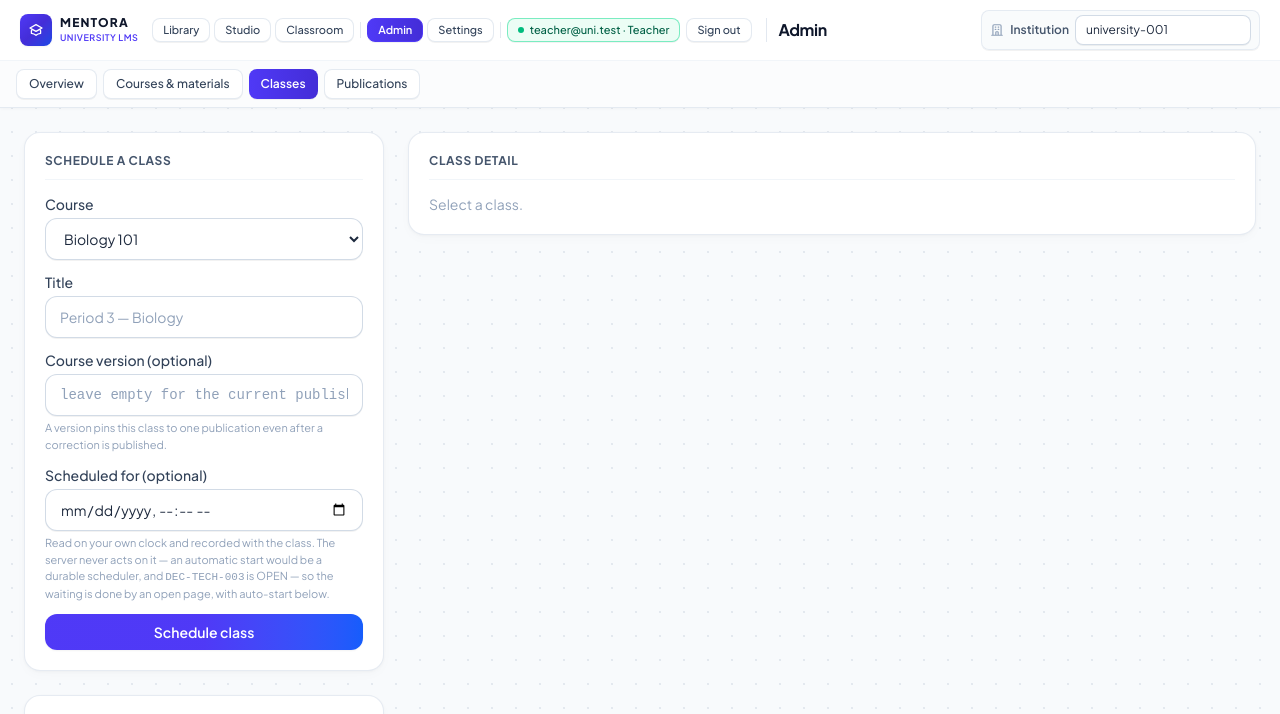
it: AdminPage — classes › records the datetime it was given, read on the teacher’s own clock
The image size is (1280, 714).
In the field labelled "Title": (204, 317) [45,296,363,338], type "Period 4"
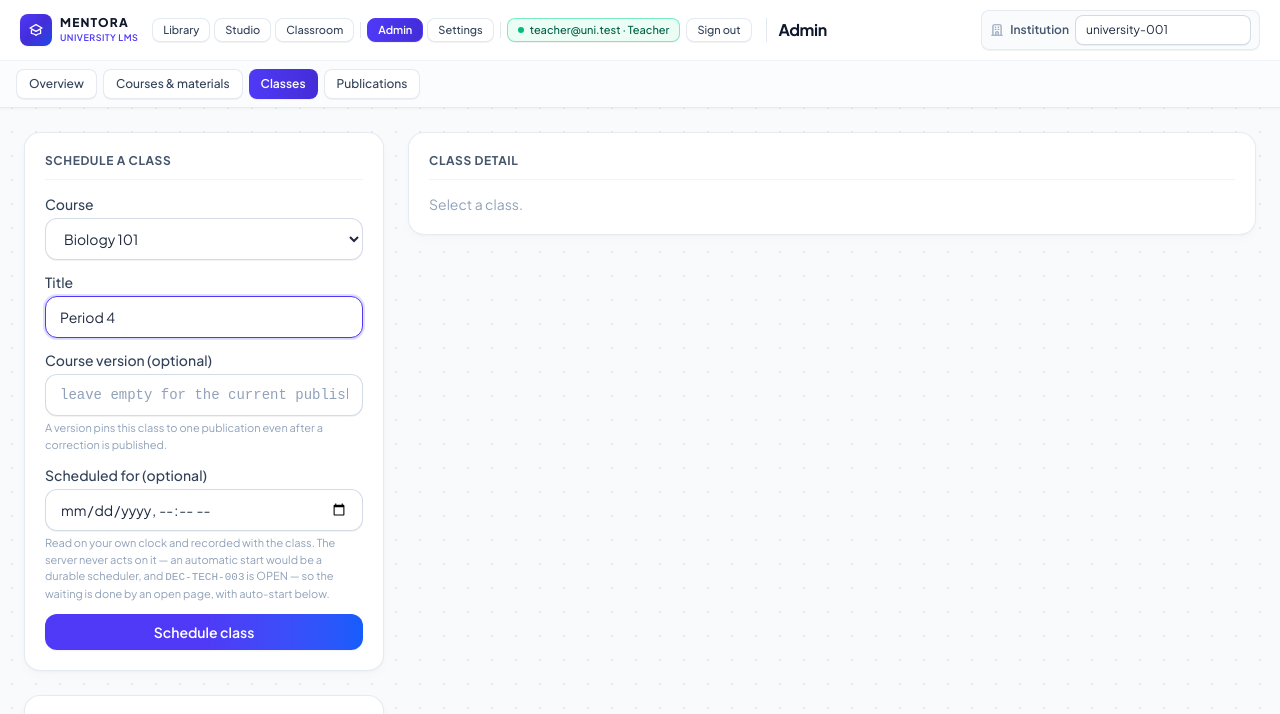
In the field labelled "Scheduled for (optional)": (204, 510) [45,489,363,531], type "2026-10-20T09:30"
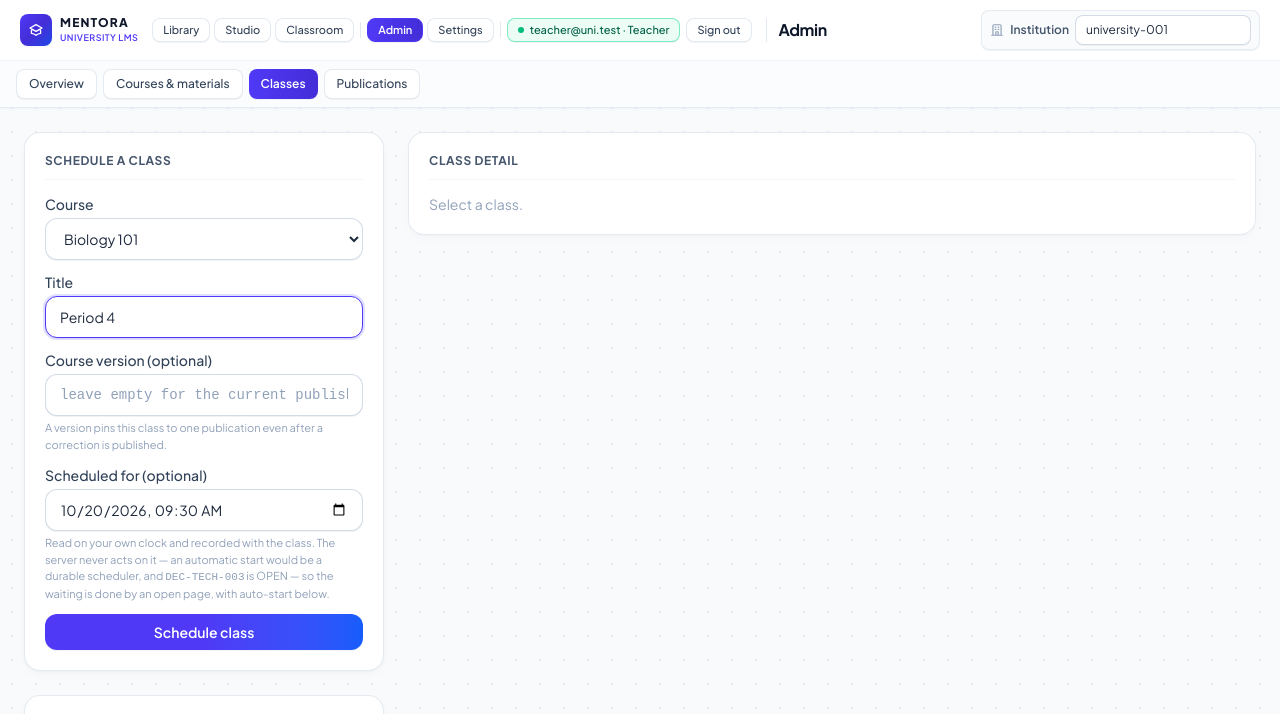
Click the button "Schedule class": (204, 632) [45,614,363,650]
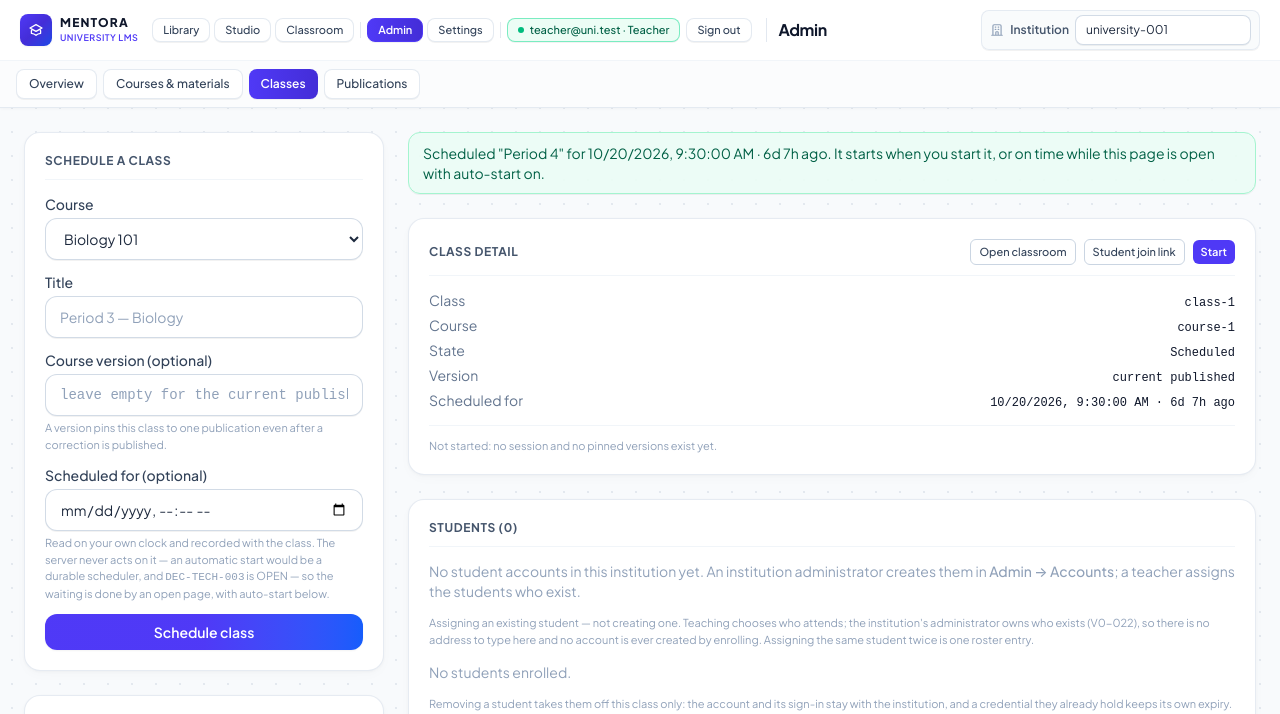
Expected: the text "Scheduled \"Period 4\" for" is shown, [423,144,1215,182]
